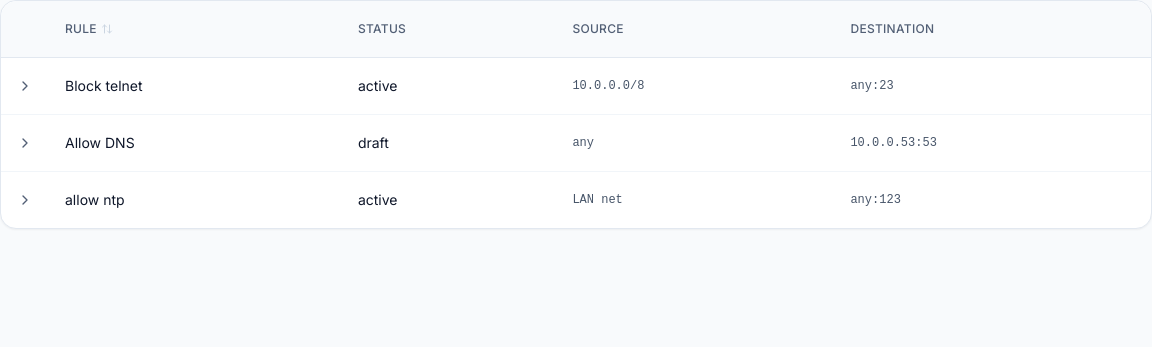
Test: DataTable row detail › tablet: the detail comes after the columns that did not fit
Click the button named "common.showDetails" next to "Block telnet": x=25, y=86 [9,70,41,102]
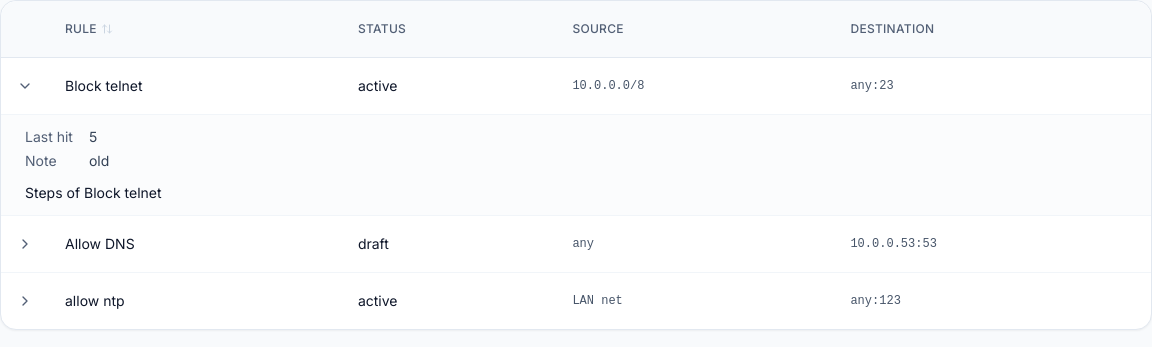
Expected: the text "Last hit" is shown, [25,127,73,147]
Expected: the text "Steps of Block telnet" is shown, [25,184,162,201]
